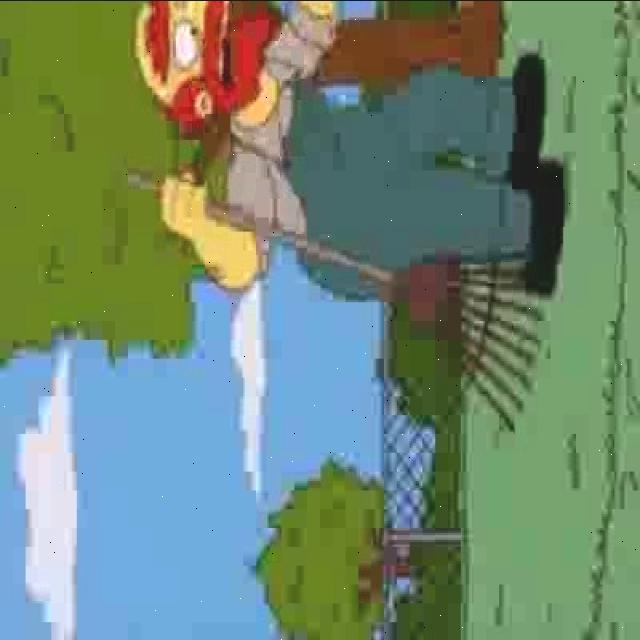Groundskeeper Willie: (131, 0, 281, 137)
